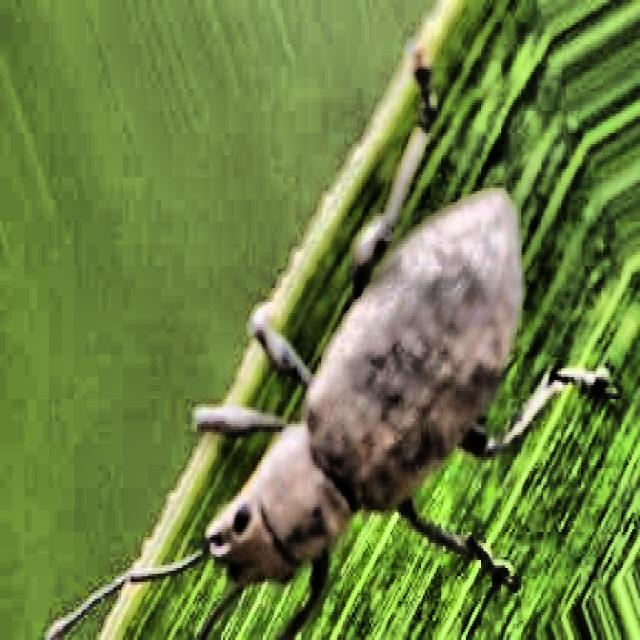Stink bug: (107, 52, 640, 629)
